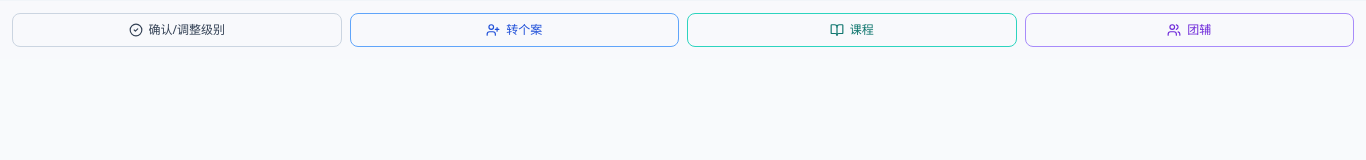
Scenario: TriageActionBar › opens the level picker inline when 确认/调整级别 is clicked
Click the button "确认/调整级别": (177, 30) [12,13,342,47]
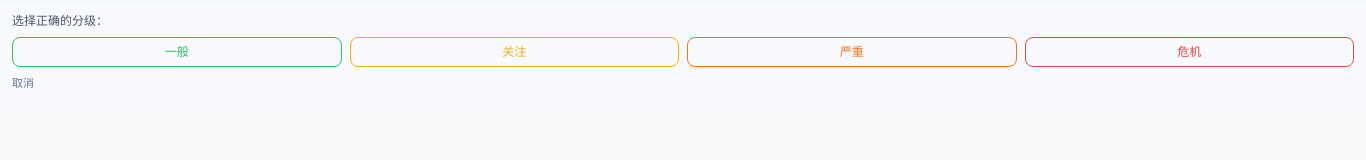
expect the text "选择正确的分级：" is shown: met, box [12,12,108,29]
expect the button "取消" is shown: met, box [12,75,34,92]
